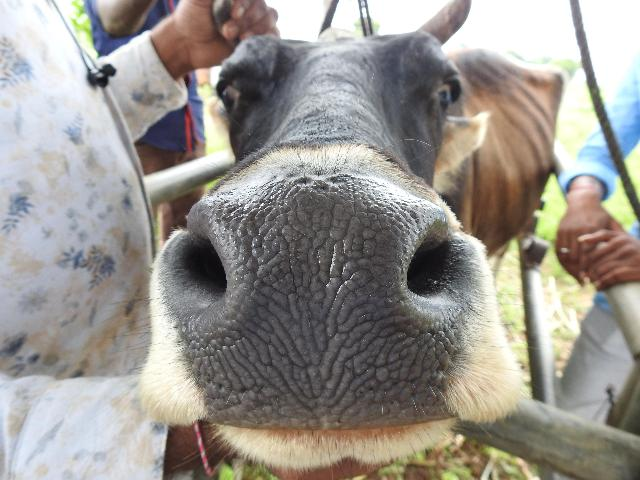Muzzle: (218, 194, 420, 410)
